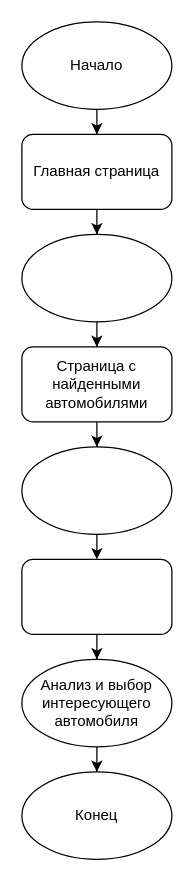
The diagram is 194 pixels wide and 881 high, and some of its shapes have lost their labels. The box of each missing label's shape, as (x1, y1, x2, y2) in pixels:
Ввести модель авто в поисковую строку: (21, 233, 172, 322)
Выбрать автомобили для сравнения: (21, 446, 172, 534)
Страница с таблицей сравнения автомобилей: (21, 558, 172, 634)
